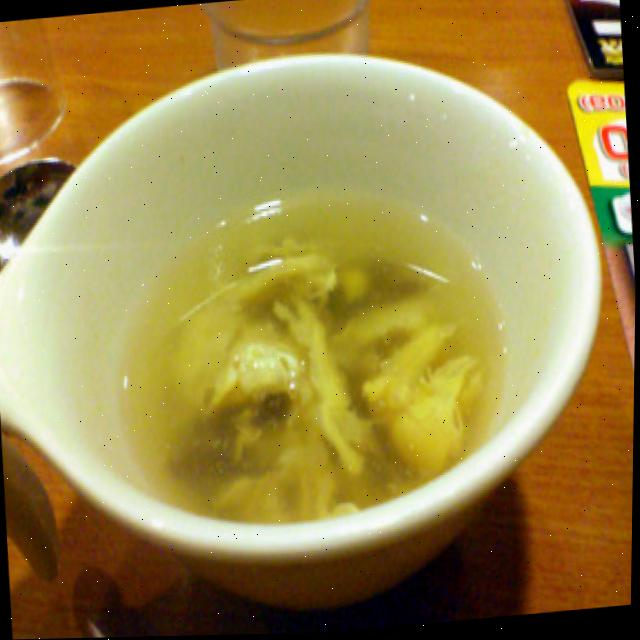汤锅炖物: (0, 64, 618, 640)
